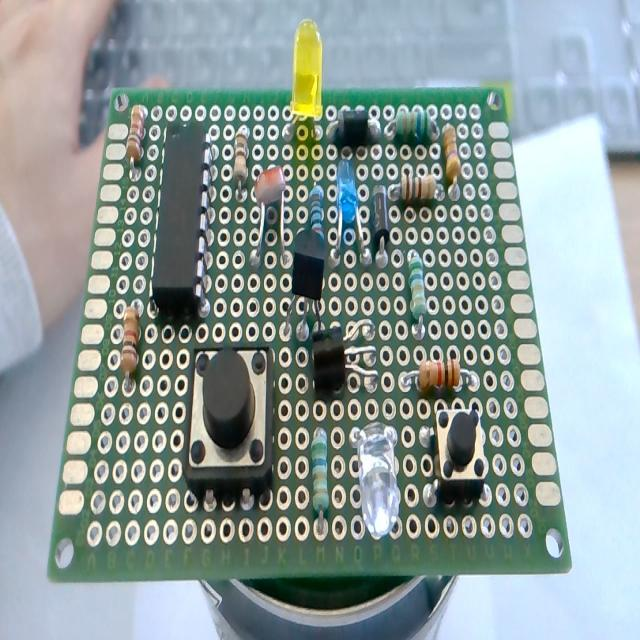IC: (148, 115, 219, 328)
cds: (253, 159, 292, 272)
diode: (326, 101, 386, 154), (369, 179, 394, 271)
led: (348, 415, 406, 551), (284, 16, 327, 151), (331, 156, 369, 268), (304, 418, 336, 546)
resistor: (396, 352, 485, 400), (115, 296, 147, 398), (123, 99, 152, 188), (406, 243, 431, 344), (383, 106, 441, 147), (227, 119, 253, 209), (388, 171, 444, 211), (443, 113, 464, 206)
switch: (179, 337, 281, 496)
transistor: (416, 406, 504, 516), (307, 314, 383, 401), (284, 227, 332, 339)
